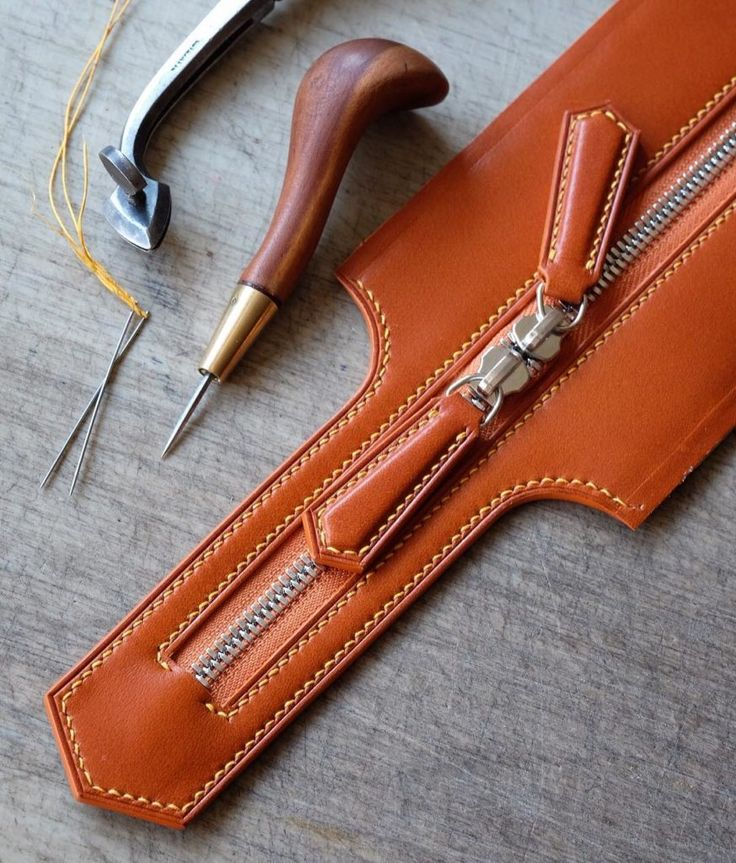cuero: (45, 1, 736, 831)
